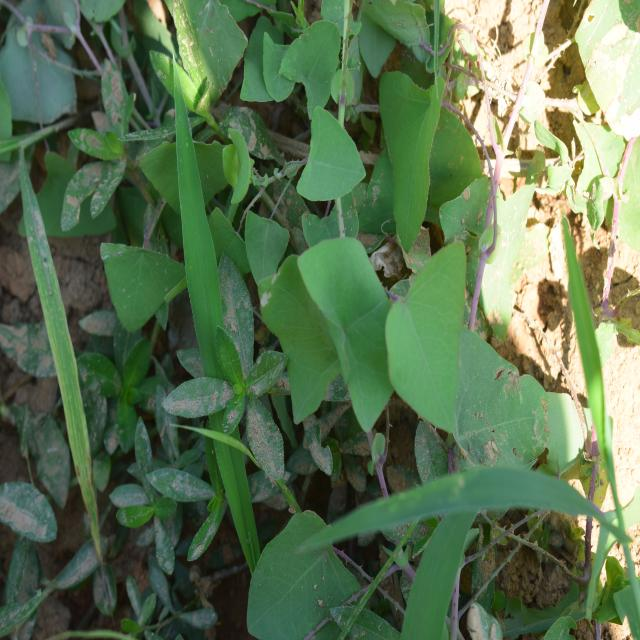Asiatic_Smartweed: (250, 0, 468, 235), (254, 212, 479, 432)
